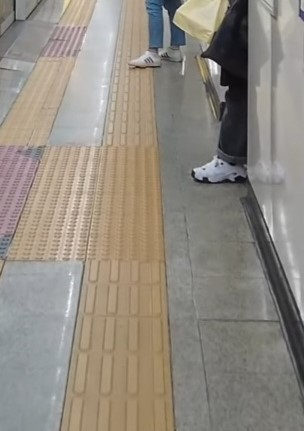guideBlock: (77, 311, 168, 363), (73, 361, 176, 403), (83, 283, 170, 322), (63, 401, 169, 431), (84, 263, 166, 293), (113, 94, 156, 130), (107, 122, 154, 149)
warningBlock: (19, 221, 92, 262), (101, 161, 162, 198), (96, 192, 160, 225), (37, 160, 95, 195), (28, 188, 87, 220), (91, 230, 156, 257), (102, 145, 160, 175), (45, 142, 105, 159)
